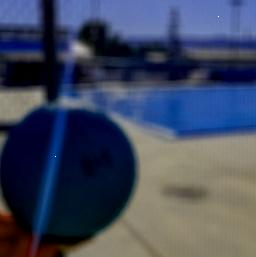algae: (0, 101, 140, 242)
